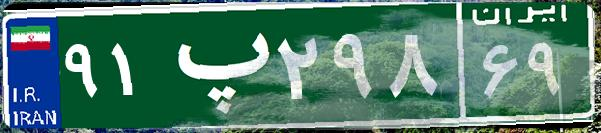1: (110, 28, 158, 105)
2: (273, 28, 330, 110)
6: (475, 38, 525, 113)
8: (385, 28, 445, 110)
9: (330, 28, 385, 110), (57, 26, 110, 107), (525, 38, 570, 115)
پ: (158, 15, 273, 115)
